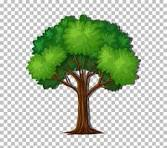plant: (27, 14, 140, 137)
